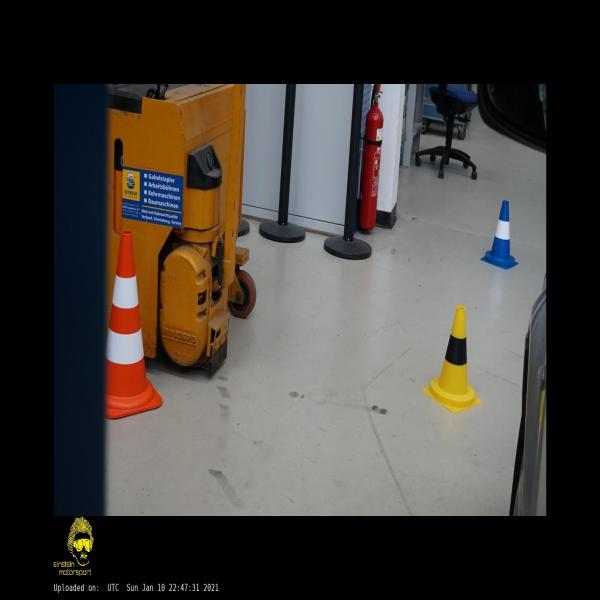blue_cone: (480, 200, 518, 270)
large_orange_cone: (105, 229, 163, 419)
yellow_cone: (422, 305, 482, 413)
